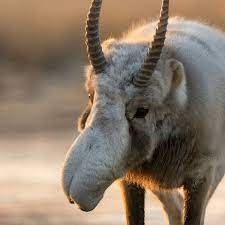saiga: (59, 1, 225, 225)
